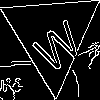W: (27, 11, 86, 76)
